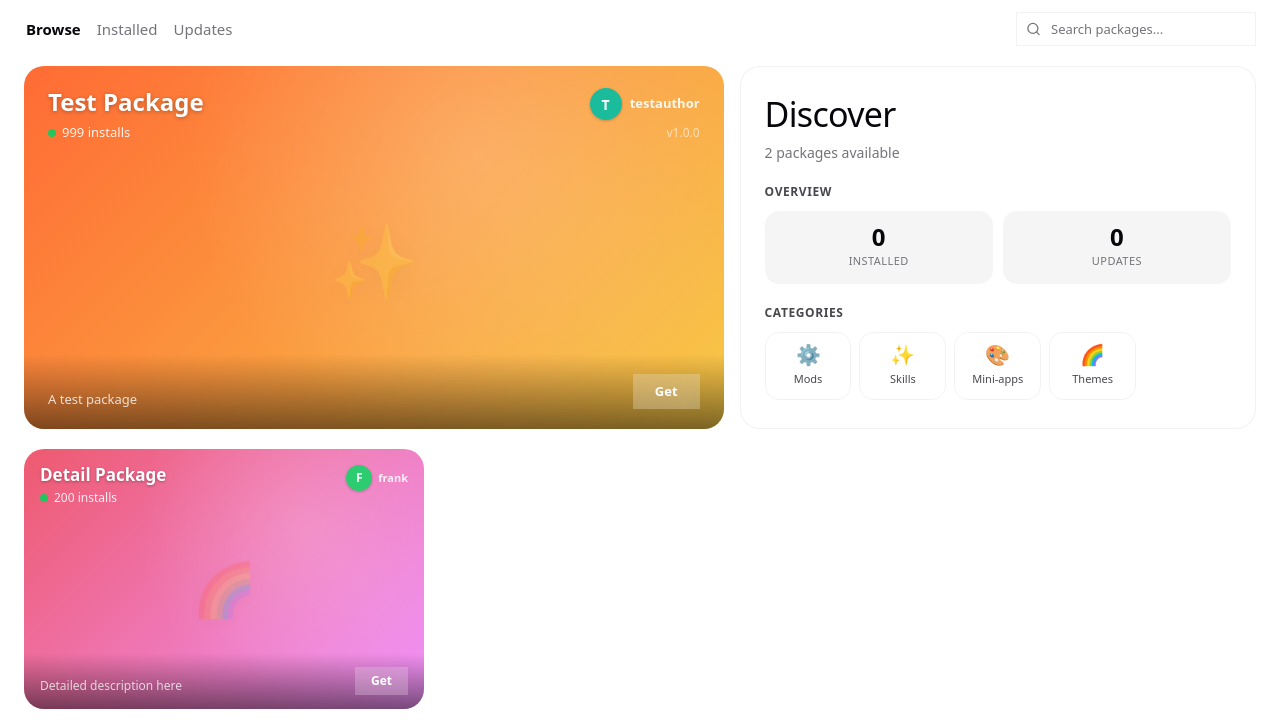
Test: PackageDetail › renders full detail when package is loaded
The image size is (1280, 720).
Click the element with class "store-card" at (224, 579), box [24,449,424,709]
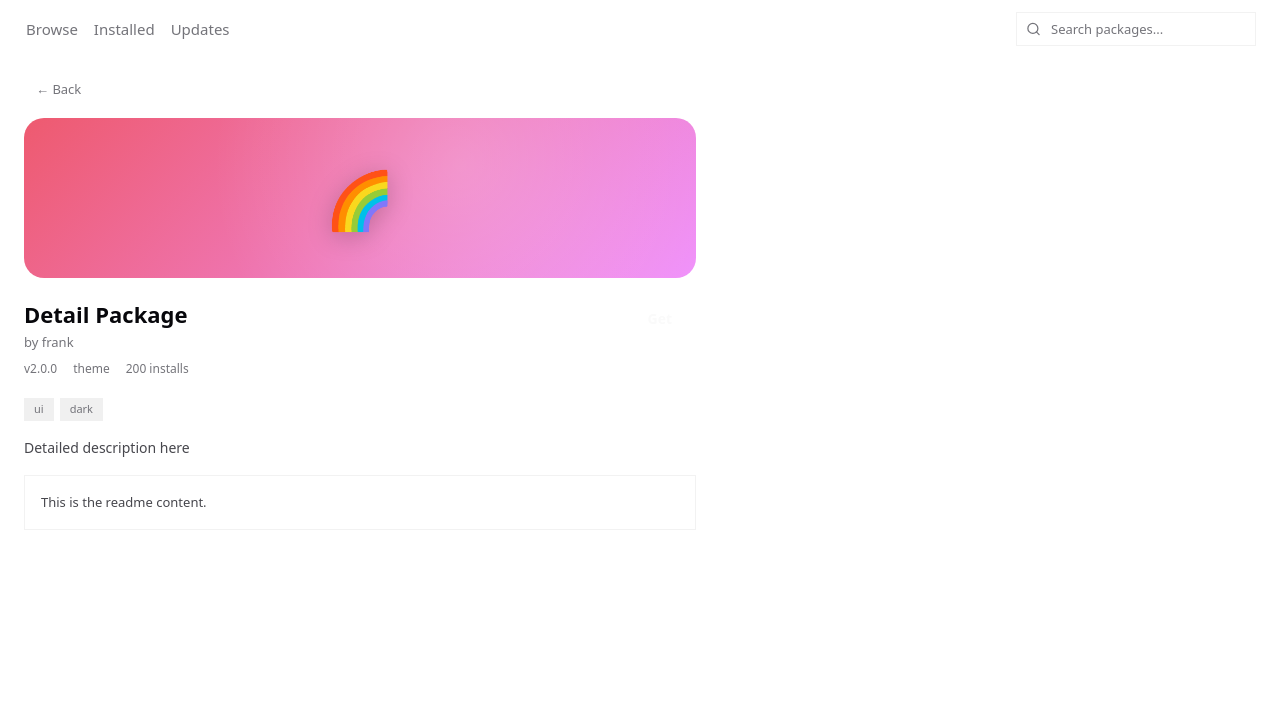
Now the text with class "store-detail-author" reads "by frank", box [24,332,74,350]
Now the text "v2.0.0" is shown, box [24,360,57,378]
Now the text with class "store-detail-readme" reads "This is the readme content.", box [41,493,207,511]
